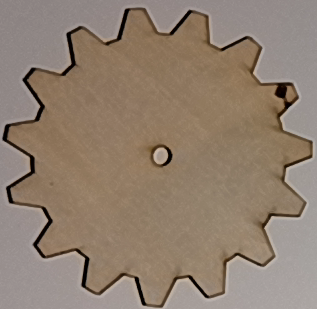Points: (273, 81, 293, 108)
